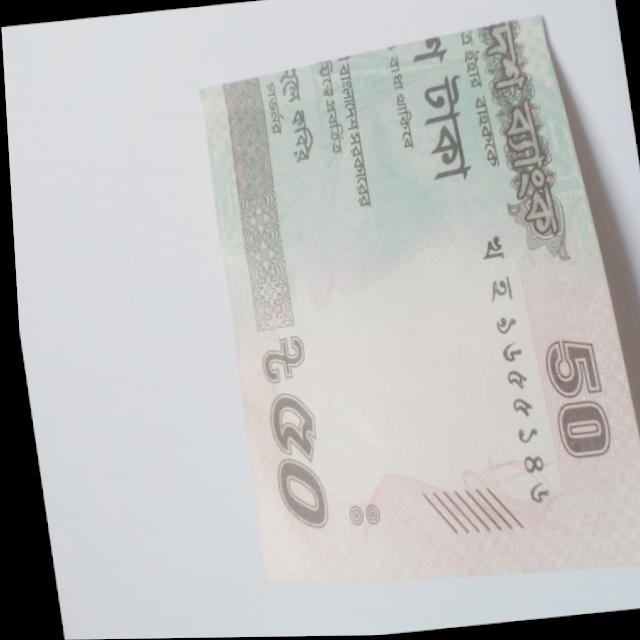Taka: (183, 24, 640, 608)
